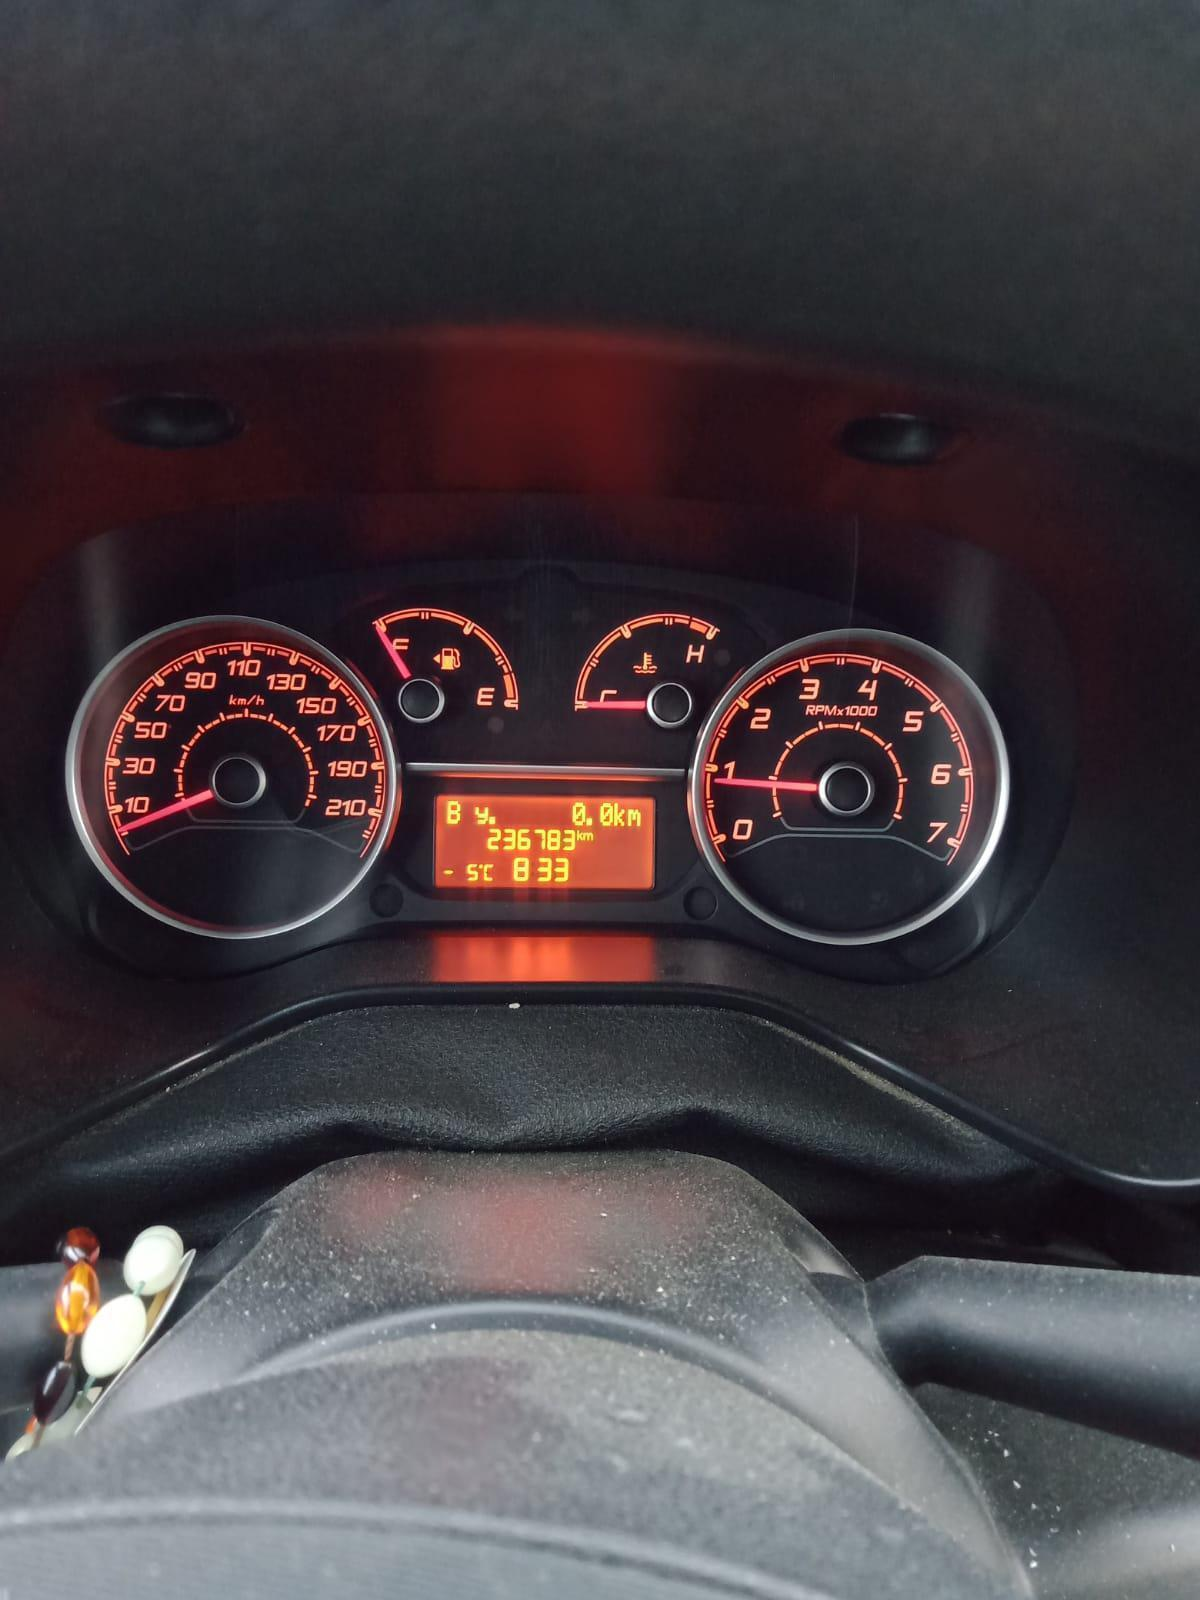,: (487, 815, 495, 825), (585, 816, 592, 825)
0: (599, 803, 614, 826), (571, 803, 585, 825)
2: (487, 826, 500, 849)
3: (536, 855, 551, 881), (553, 857, 568, 882), (500, 828, 516, 850)
5: (466, 863, 479, 881)
6: (516, 828, 531, 850)
7: (532, 829, 546, 850)
8: (512, 855, 529, 881), (546, 829, 561, 850)
X: (446, 800, 461, 824), (613, 803, 625, 826), (626, 808, 642, 826), (474, 806, 488, 824), (483, 863, 494, 881), (582, 831, 592, 842), (576, 829, 582, 842)
odometer: (430, 789, 655, 892)
